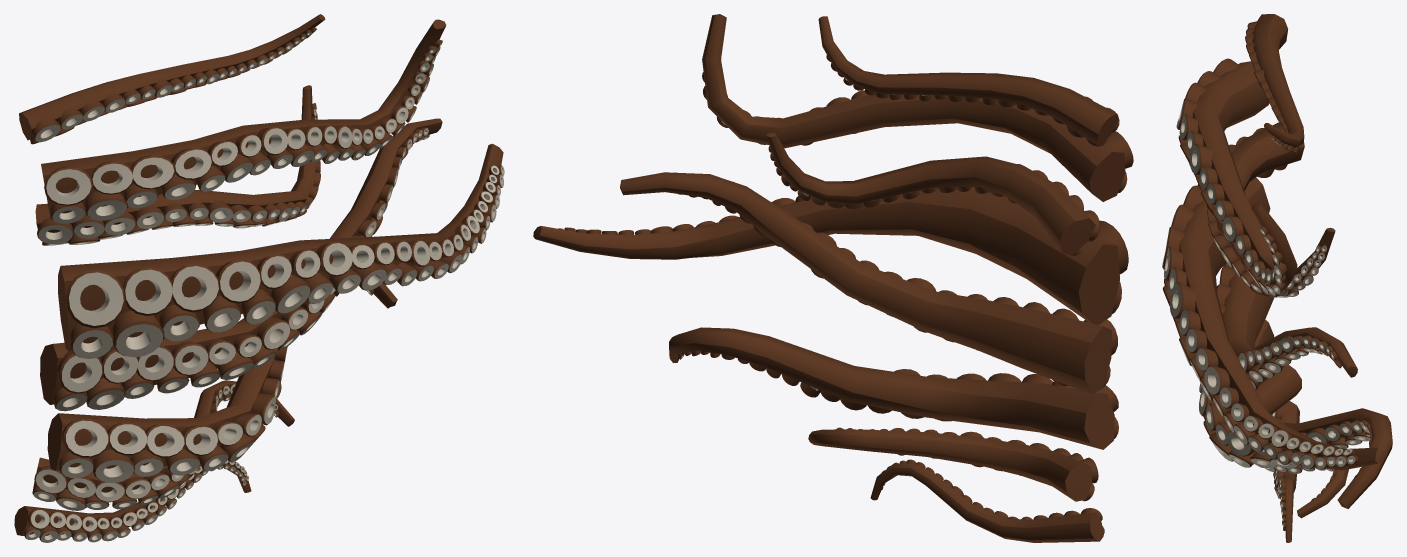
The model's file is Tentacle_All_Color_Pose.fbx.
3 renders of one model, left to right at view 1: azimuth 30°, elevation 25°; view 2: azimuth 150°, elevation 25°; view 3: azimuth 270°, elevation 25°, orthographic. The views are drawn at different scales.
Parts seen in each view (by area): view 1: Tentacle_Color3:TentacleGroup_Tentacle_Geo; view 2: Tentacle_Color3:TentacleGroup_Tentacle_Geo; view 3: Tentacle_Color3:TentacleGroup_Tentacle_Geo.
Part boxes in pixels (<box>): Tentacle_Color3:TentacleGroup_Tentacle_Geo: <box>14,14,504,542</box>; Tentacle_Color3:TentacleGroup_Tentacle_Geo: <box>533,14,1133,542</box>; Tentacle_Color3:TentacleGroup_Tentacle_Geo: <box>1162,14,1392,542</box>.
Bounding box in the file's own units: 50.19 × 43.04 × 19.66.
